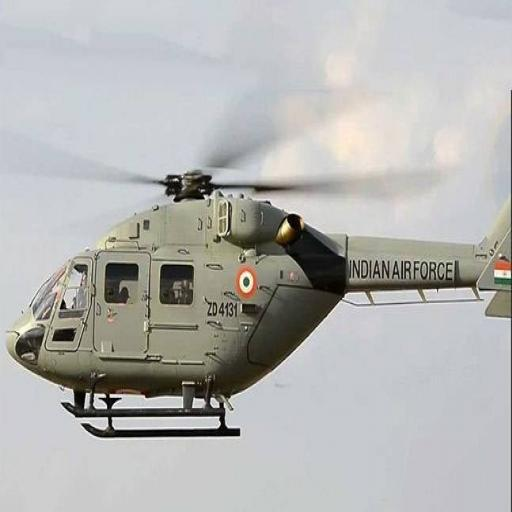helicopter: (4, 121, 512, 470)
